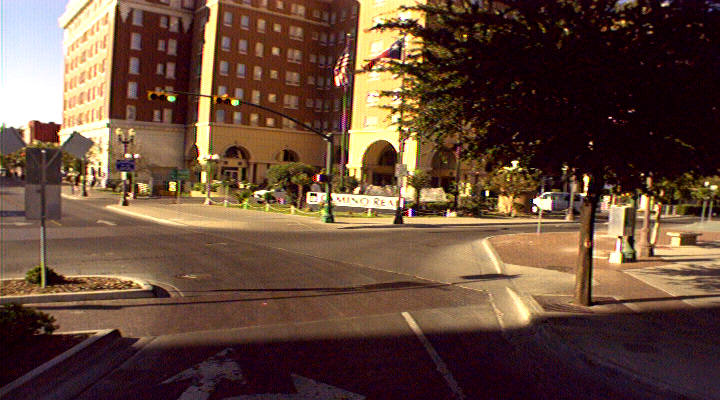Ramp: (487, 257, 603, 306), (236, 218, 365, 233)
